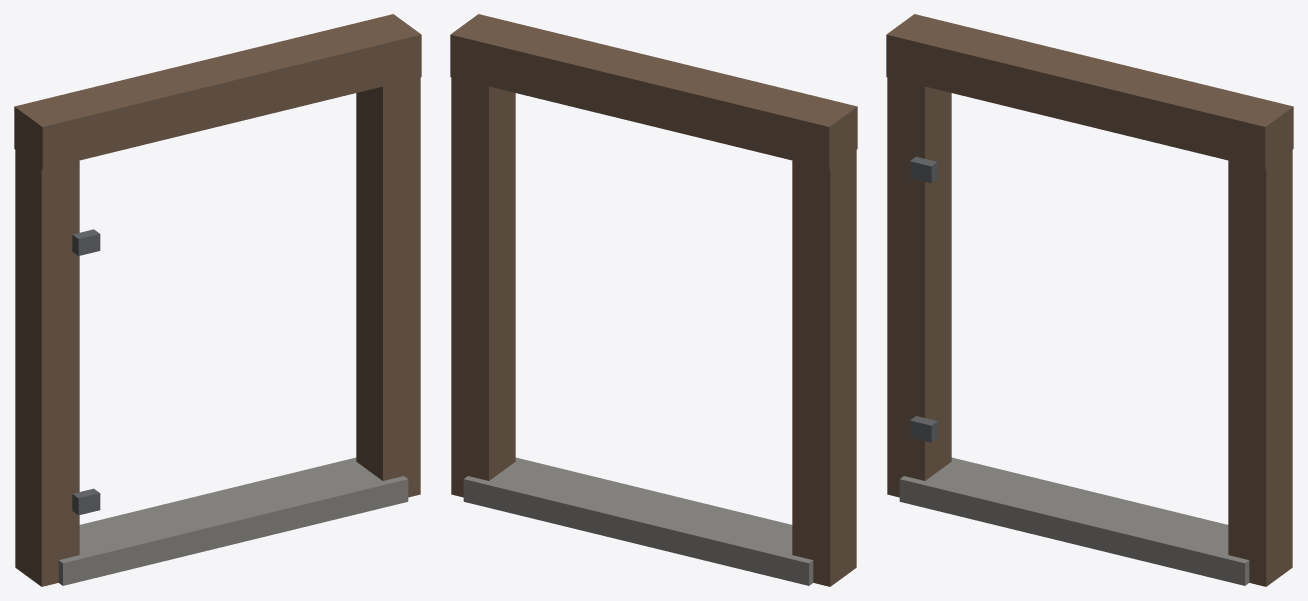
File: doorFrame083-2321fb2c18f6.glb
The picture shows the model from 3 angles, left to right: view 1: azimuth 30°, elevation 25°; view 2: azimuth 150°, elevation 25°; view 3: azimuth 330°, elevation 25°; orthographic projection.
Visible parts, largest first — view 1: left_post, lintel, right_post, threshold, frame_hinge_0.55, frame_hinge_2.38; view 2: left_post, lintel, right_post, threshold; view 3: right_post, lintel, left_post, threshold, frame_hinge_0.55, frame_hinge_2.38.
Part boxes in pixels (x1=…): left_post: x1=15, y1=98, x2=79, y2=586; lintel: x1=14, y1=14, x2=421, y2=169; right_post: x1=356, y1=16, x2=420, y2=497; threshold: x1=58, y1=457, x2=408, y2=585; frame_hinge_0.55: x1=72, y1=488, x2=100, y2=515; frame_hinge_2.38: x1=72, y1=229, x2=100, y2=255; left_post: x1=792, y1=98, x2=856, y2=586; lintel: x1=450, y1=14, x2=857, y2=169; right_post: x1=451, y1=23, x2=515, y2=497; threshold: x1=463, y1=457, x2=813, y2=585; right_post: x1=1228, y1=98, x2=1292, y2=586; lintel: x1=886, y1=14, x2=1293, y2=169; left_post: x1=887, y1=15, x2=951, y2=497; threshold: x1=899, y1=457, x2=1249, y2=585; frame_hinge_0.55: x1=910, y1=416, x2=937, y2=442; frame_hinge_2.38: x1=910, y1=156, x2=937, y2=183.
Bounding box in the file's own units: 2.8 × 3.25 × 0.485.
